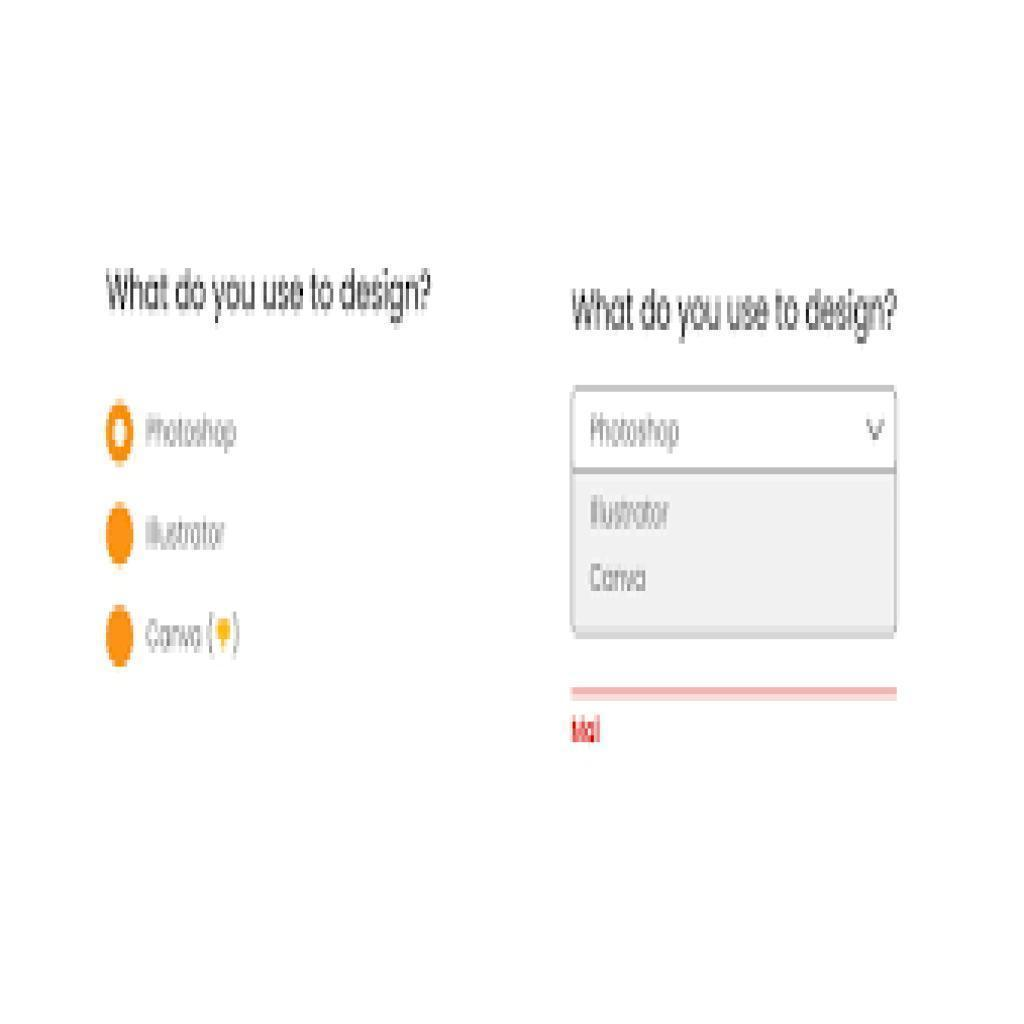dropdown: (569, 384, 900, 471)
